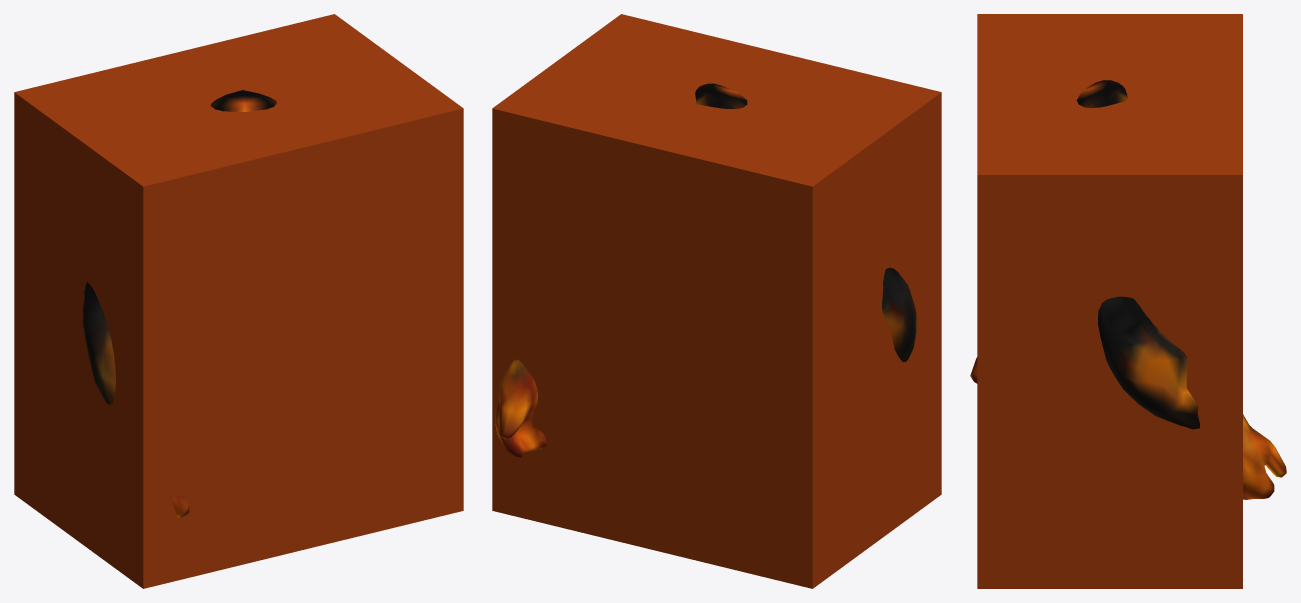
Rendered from MagmaElemental_1_000014.obj.
3 renders of one model, left to right at view 1: azimuth 30°, elevation 25°; view 2: azimuth 150°, elevation 25°; view 3: azimuth 270°, elevation 25°, orthographic. The views are drawn at different scales.
Visible parts, largest first — view 1: Cube, Elemental_FireGolem; view 2: Cube, Elemental_FireGolem; view 3: Cube, Elemental_FireGolem.
Boxes of the visible parts, x1,y1,x2,y2 form: Cube: [14, 14, 463, 588]; Elemental_FireGolem: [82, 90, 276, 519]; Cube: [492, 14, 941, 588]; Elemental_FireGolem: [495, 83, 917, 457]; Cube: [977, 14, 1242, 588]; Elemental_FireGolem: [970, 80, 1286, 499].
Bounding box in the file's own units: 3.36 × 3.91 × 2.59.
Materials: 2 (1 with a texture image).
